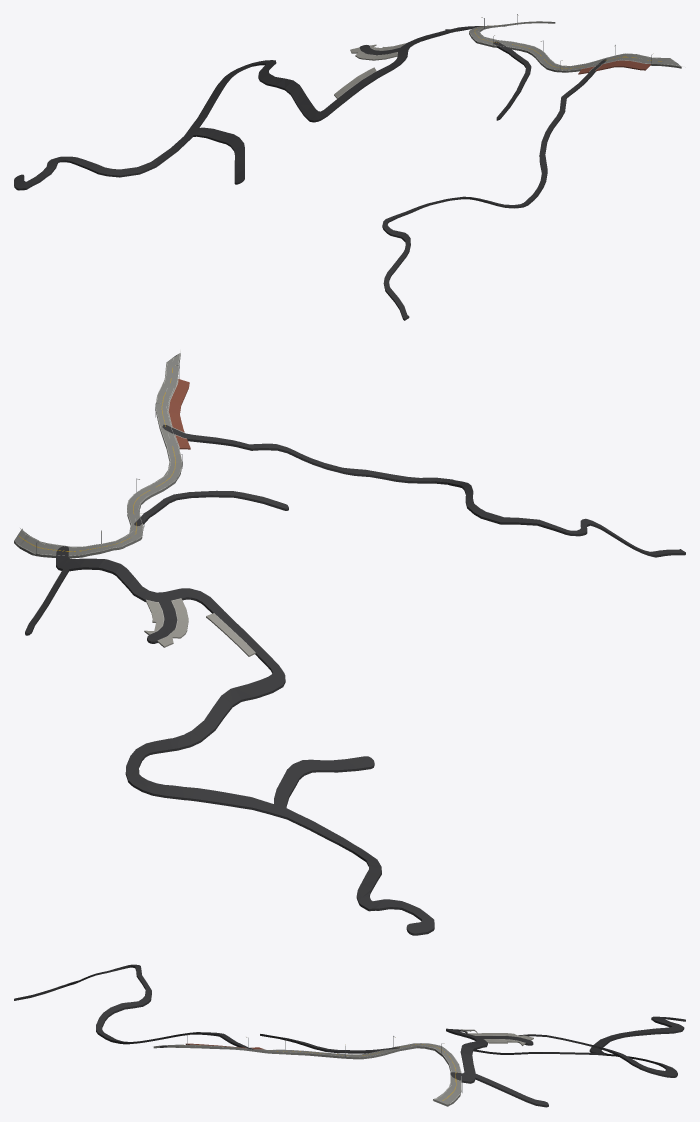
3 views of the same model, one above another, from view 1: azimuth 30°, elevation 25°; view 2: azimuth 150°, elevation 25°; view 3: azimuth 270°, elevation 25° (orthographic). The views are drawn at different scales.
Size of the model in its own units: 304 by 127 by 367.
